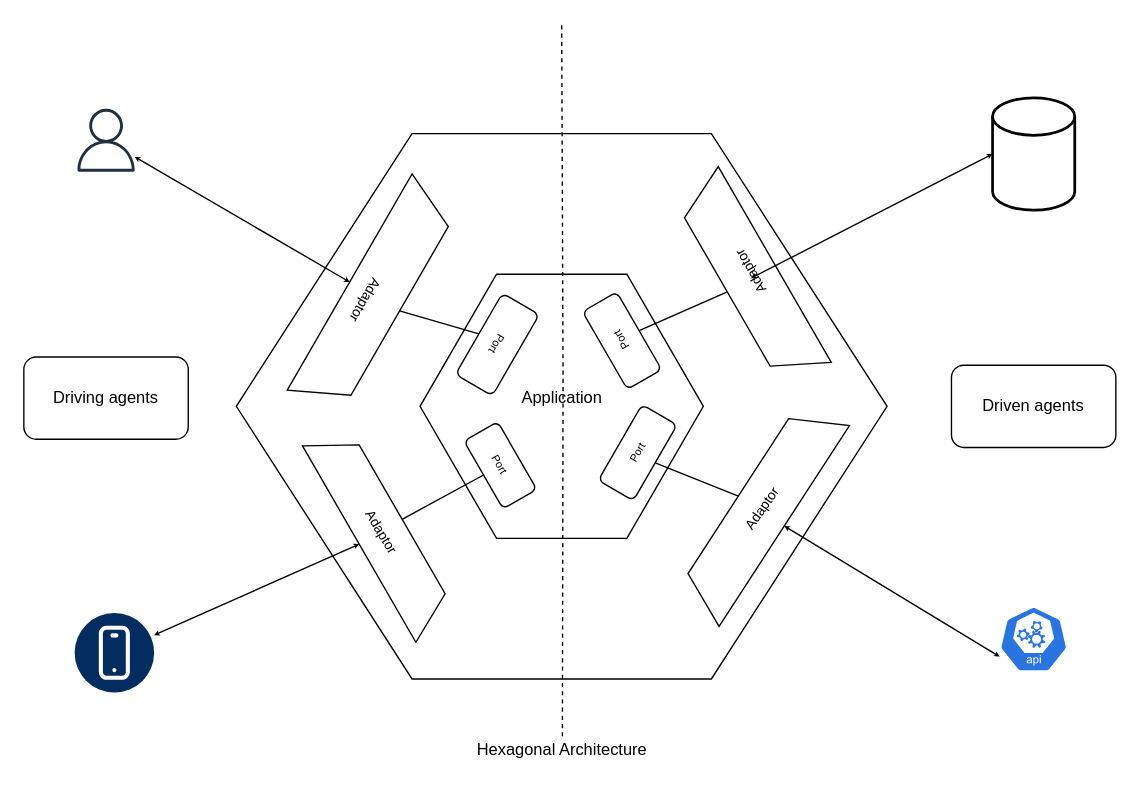
Some shapes in this 1141 by 801 pixel diagram are drawn without their labels. Each missing label, with the centre of its shape:
"3RD party API" belongs at point 1033,638.
"Database" belongs at point 1033,153.
"external application" belongs at point 113,652.
"user interface" belongs at point 105,139.
